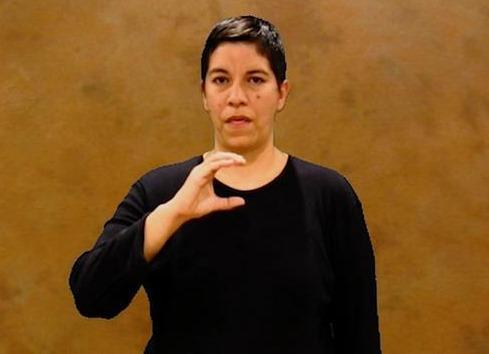C: (167, 148, 264, 226)
